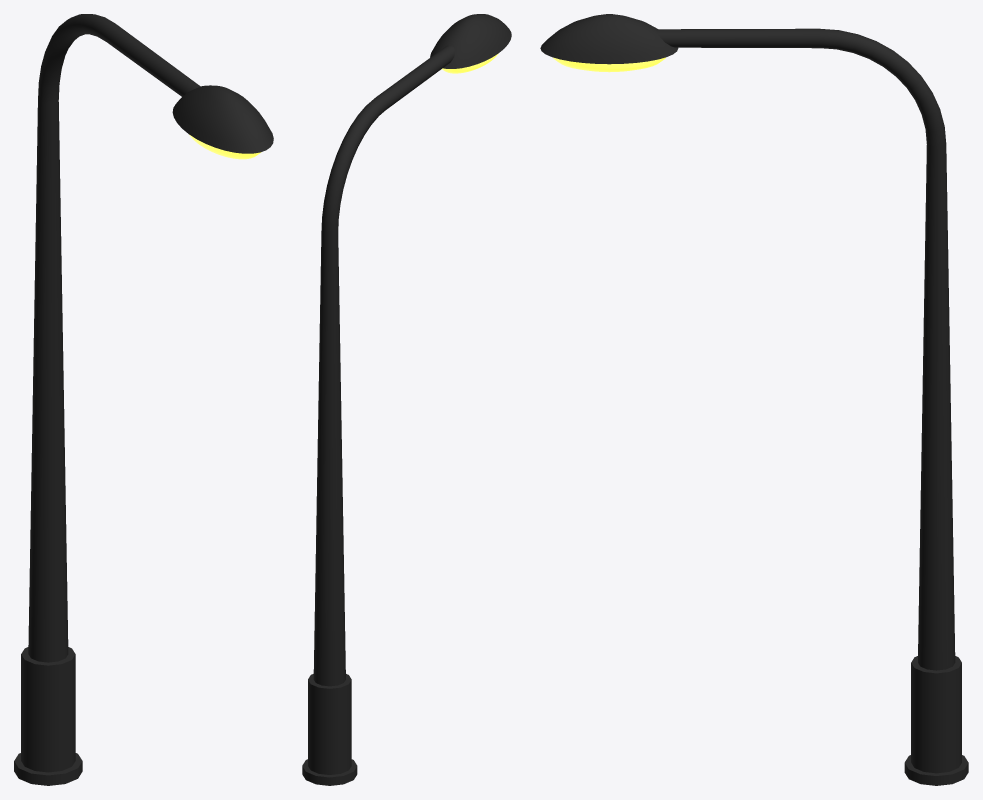
The model's file is FarolaModernaRodonaDe1.001.fbx.
The picture shows the model from 3 angles, left to right: view 1: azimuth 30°, elevation 25°; view 2: azimuth 150°, elevation 25°; view 3: azimuth 270°, elevation 25°; orthographic projection. The views are drawn at different scales.
Visible parts, largest first — view 1: FarolaModernaRodonaDe1.001; view 2: FarolaModernaRodonaDe1.001; view 3: FarolaModernaRodonaDe1.001.
Part boxes in pixels (bbox=[...]): FarolaModernaRodonaDe1.001: bbox=[14, 14, 273, 785]; FarolaModernaRodonaDe1.001: bbox=[302, 14, 511, 785]; FarolaModernaRodonaDe1.001: bbox=[540, 14, 968, 785].
Size of the model in its own units: 30.41 by 339 by 174.
